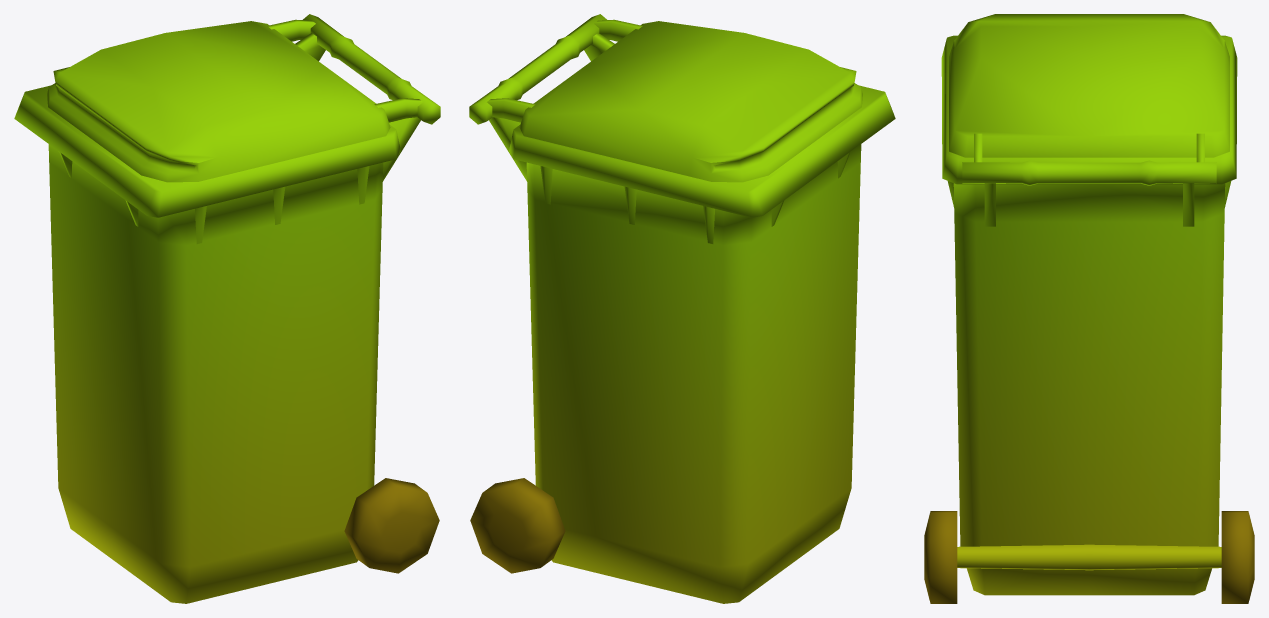
File: WheelyBinBlue.glb
3 views of the same model, side by side, from view 1: azimuth 30°, elevation 25°; view 2: azimuth 150°, elevation 25°; view 3: azimuth 270°, elevation 25° (orthographic). The views are drawn at different scales.
Visible parts, largest first — view 1: WheelyBinBlue; view 2: WheelyBinBlue; view 3: WheelyBinBlue.
Part boxes in pixels (box(x1,y1,x2,y2)): WheelyBinBlue: box(14, 14, 440, 603); WheelyBinBlue: box(469, 14, 895, 603); WheelyBinBlue: box(924, 14, 1254, 603).
Size of the model in its own units: 1.42 by 2.14 by 1.31.
1 material, 1 textured.
